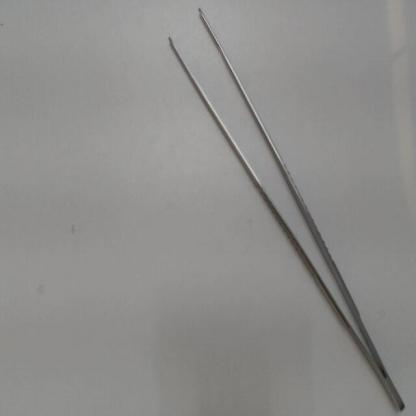DeBakey Dissector: (162, 5, 408, 411)
